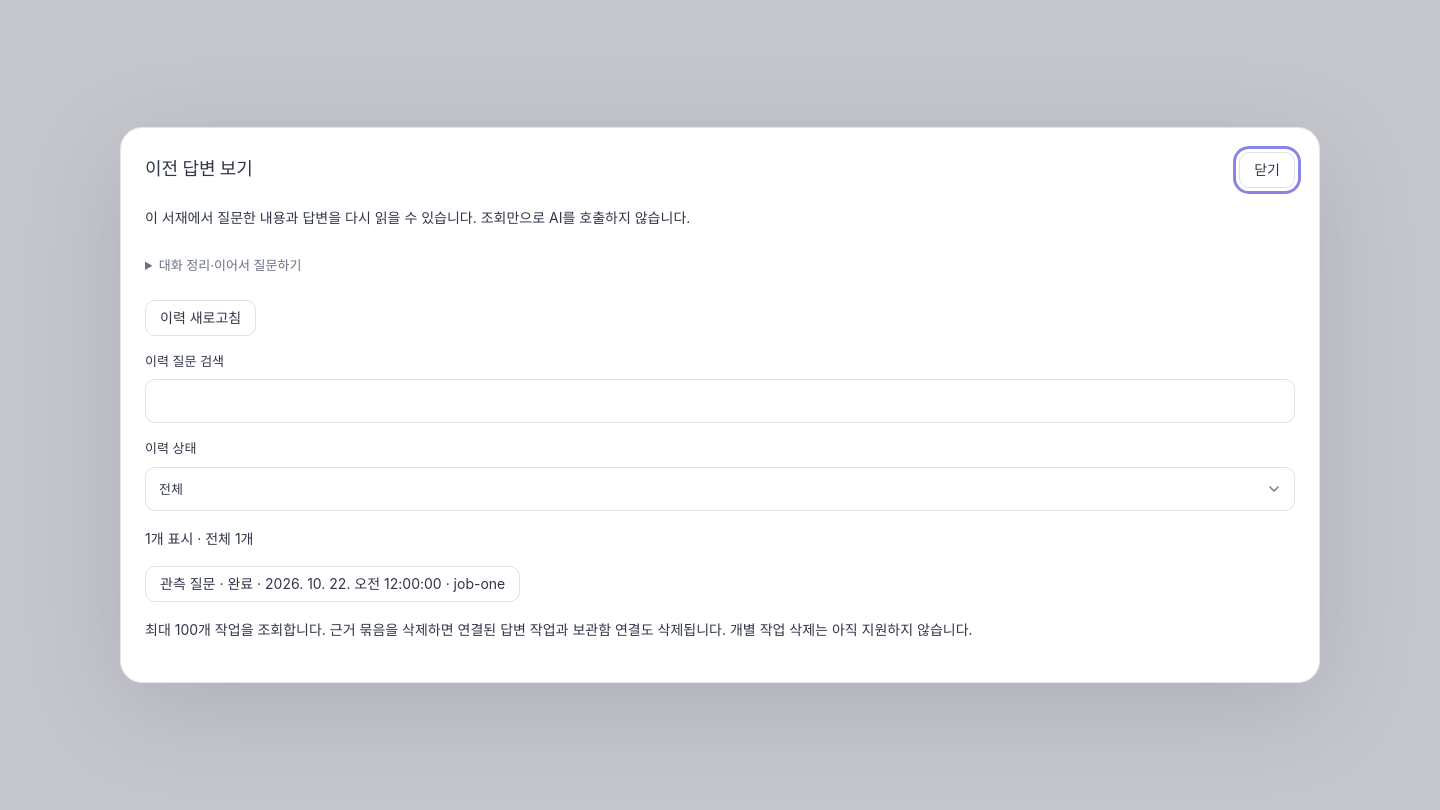
Test: 다른 묶음의 근거를 답변과 함께 표시하지 않는다
This screenshot has width=1440, height=810.
Check: the text "1개 표시 · 전체 1개" is shown, box left=145, top=530, right=254, bottom=547
Click the button "관측 질문 · 완료".
click(333, 584)  # box left=145, top=566, right=520, bottom=602
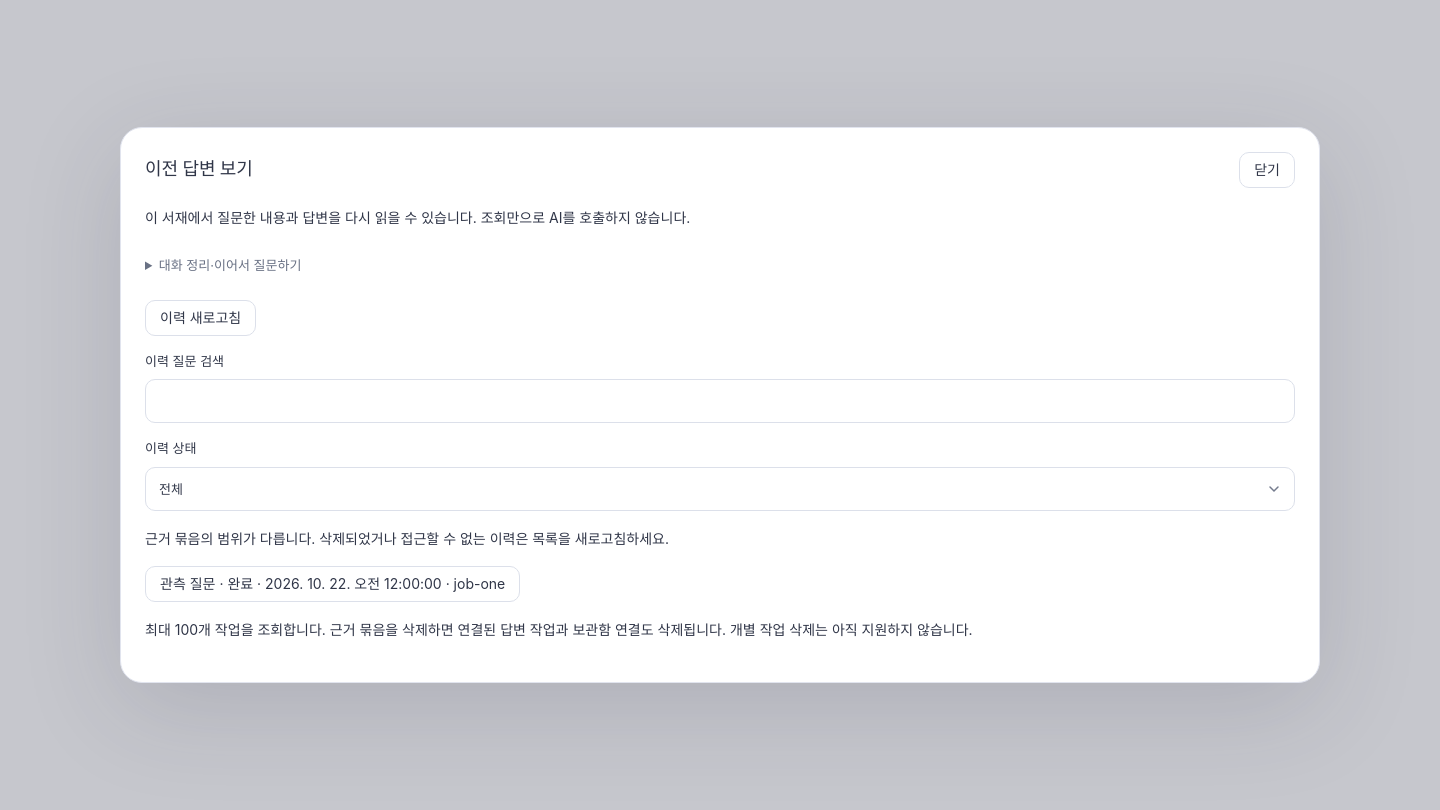
Check: the message shows "근거 묶음의 범위가 다릅니다", box left=145, top=530, right=315, bottom=547
